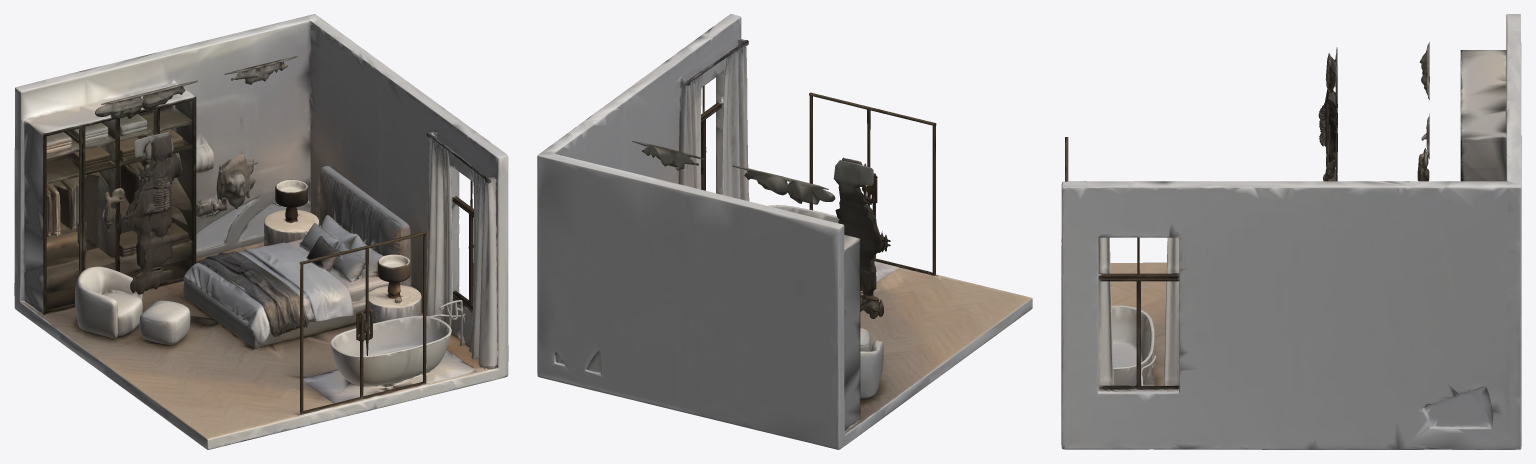
The model's file is chambre.glb.
3 views of the same model, side by side, from view 1: azimuth 30°, elevation 25°; view 2: azimuth 150°, elevation 25°; view 3: azimuth 270°, elevation 25° (orthographic). The views are drawn at different scales.
Visible parts, largest first — view 1: tripo_node_44ae5bc9-4053-4402-b02c-40bd2f909451; view 2: tripo_node_44ae5bc9-4053-4402-b02c-40bd2f909451; view 3: tripo_node_44ae5bc9-4053-4402-b02c-40bd2f909451.
Part boxes in pixels (x1=…): tripo_node_44ae5bc9-4053-4402-b02c-40bd2f909451: x1=14, y1=14, x2=508, y2=449; tripo_node_44ae5bc9-4053-4402-b02c-40bd2f909451: x1=537, y1=14, x2=1032, y2=449; tripo_node_44ae5bc9-4053-4402-b02c-40bd2f909451: x1=1061, y1=14, x2=1521, y2=449.
Size of the model in its own units: 0.8793 by 0.6179 by 0.9805.
1 material, 1 textured.
